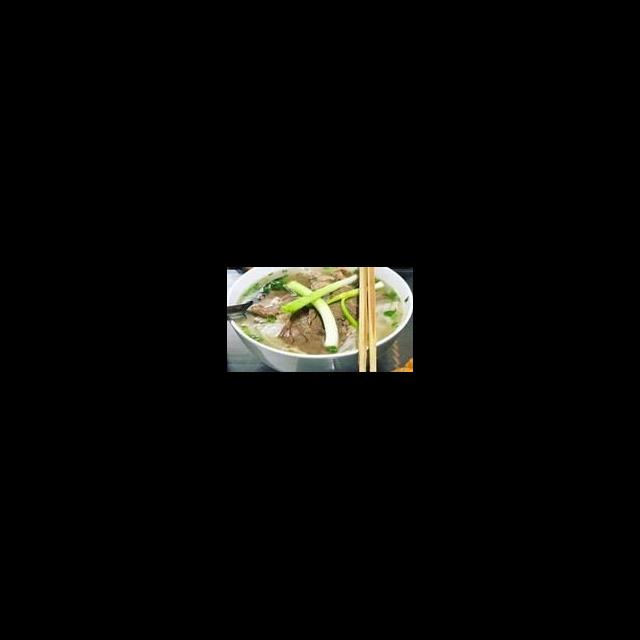thit bo: (308, 274, 364, 334), (280, 308, 328, 357), (244, 290, 305, 318)
